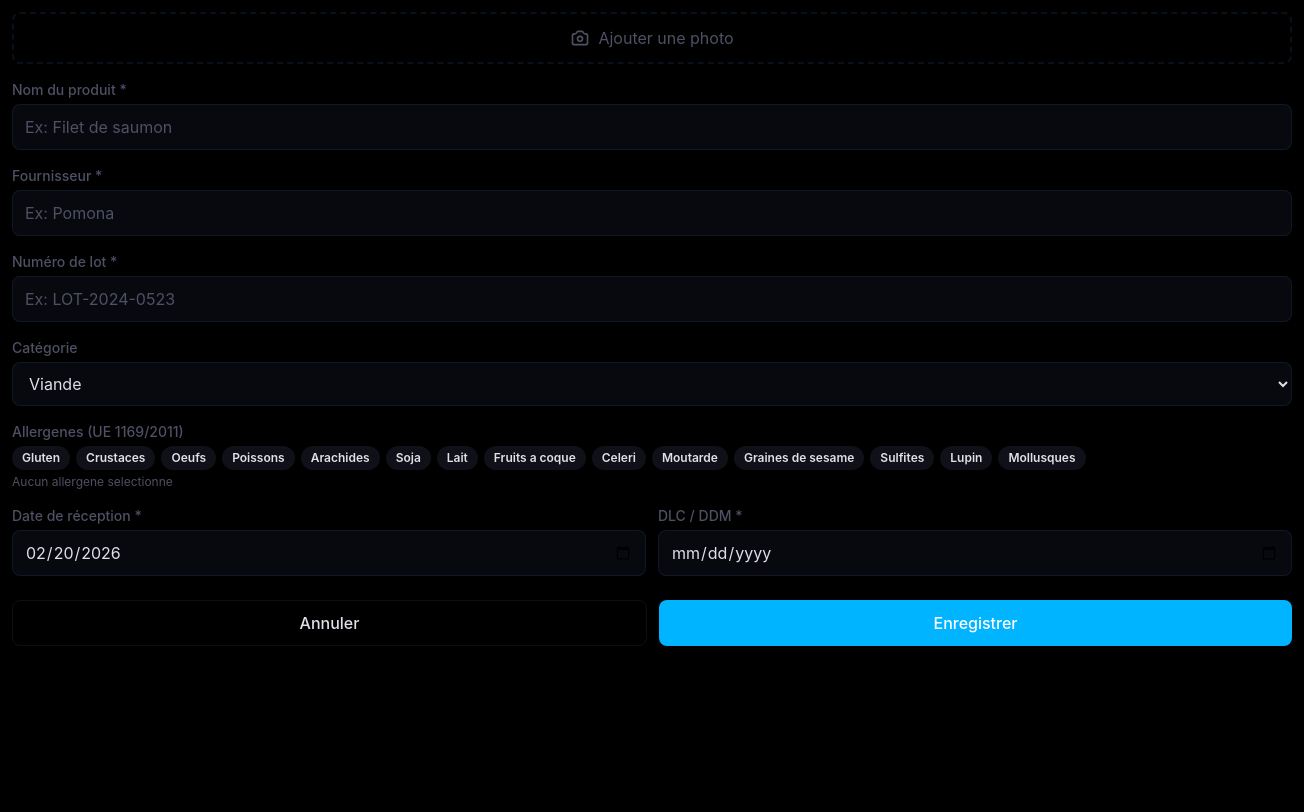
Test case: ProductForm › shows validation errors on empty submit
The width and height of the screenshot is (1304, 812).
Click the button "Enregistrer": coordinates (976, 623) x1=659 y1=600 x2=1292 y2=646
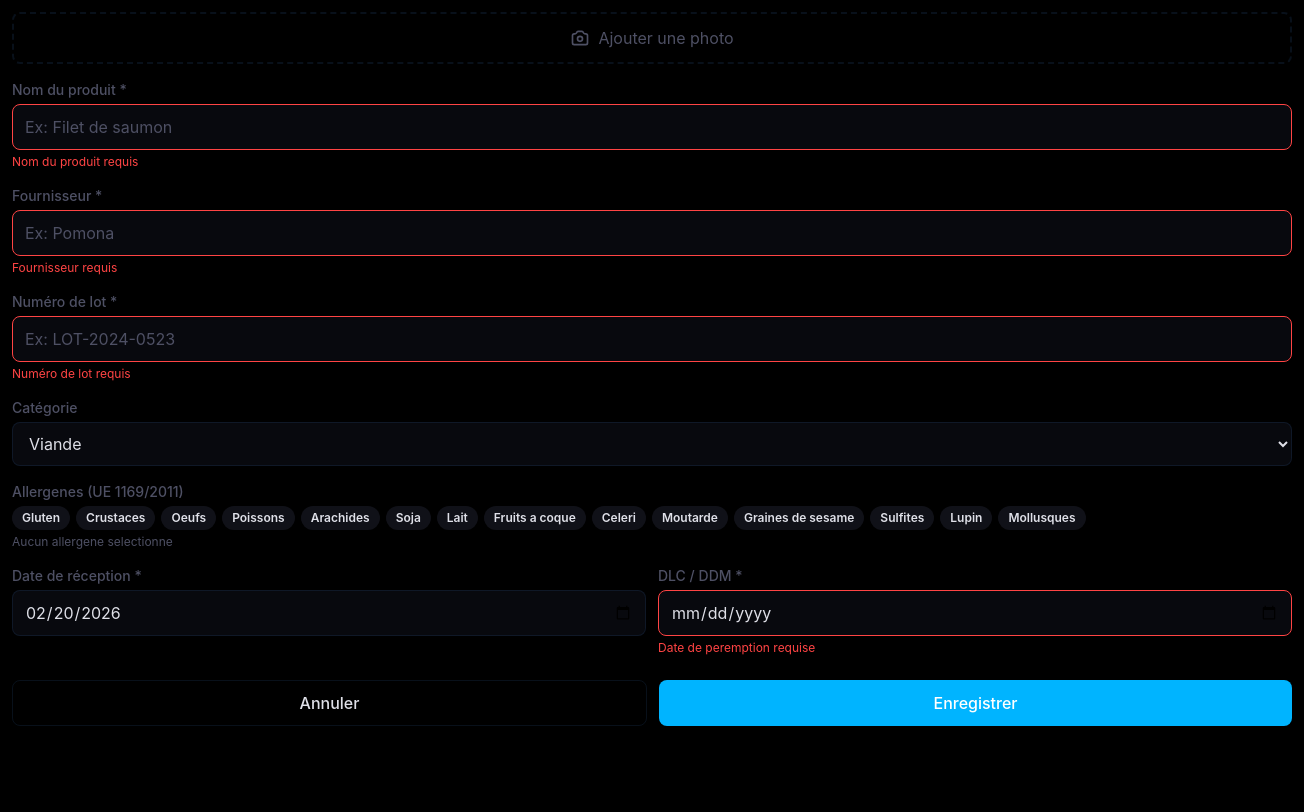
Result: the text "Nom du produit requis" is shown at x1=12 y1=154 x2=138 y2=169
Result: the text "Fournisseur requis" is shown at x1=12 y1=260 x2=117 y2=275
Result: the text "Numéro de lot requis" is shown at x1=12 y1=366 x2=131 y2=381
